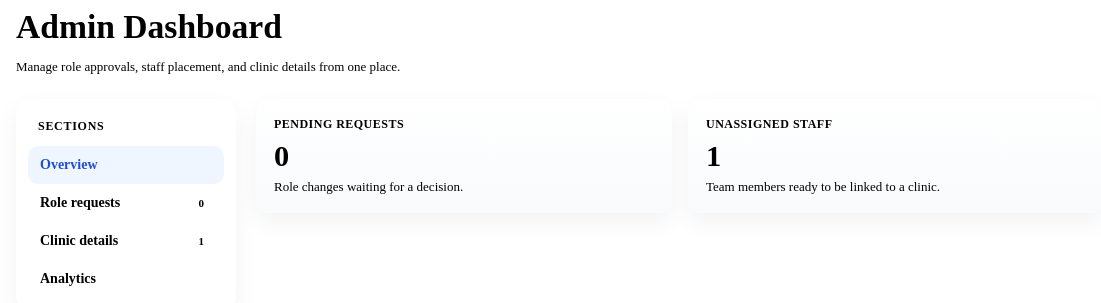
AdminDashboard › shows empty state when no role requests exist
The width and height of the screenshot is (1101, 303).
What coordinates should you click on to do the following:
click the button "Role requests 0"
I would click on:
 (126, 203)
Its box is [28, 184, 224, 222].
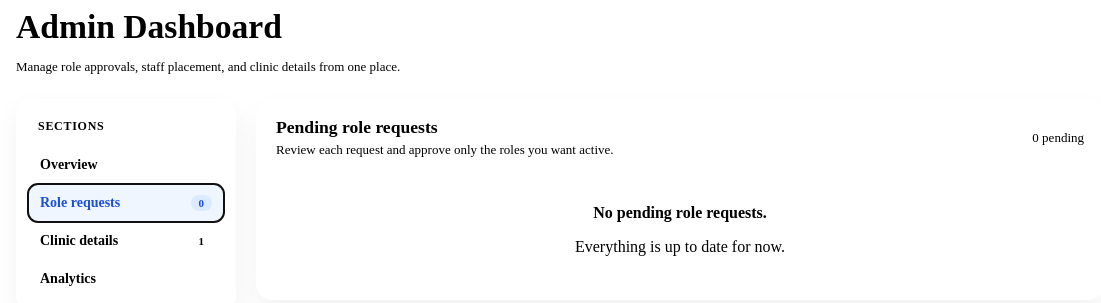
Expected: the text "No pending role requests." is shown, [593, 204, 767, 221]
Expected: the text "Everything is up to date for now." is shown, [575, 238, 785, 255]
